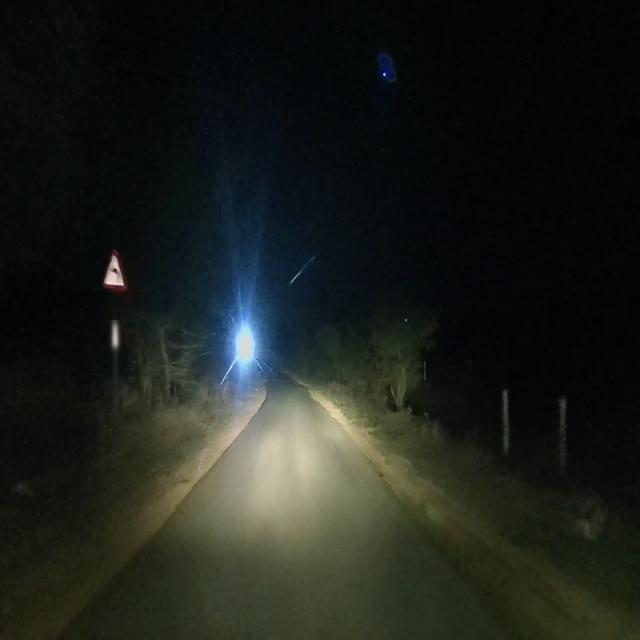left-hand-curve: (100, 248, 128, 294)
